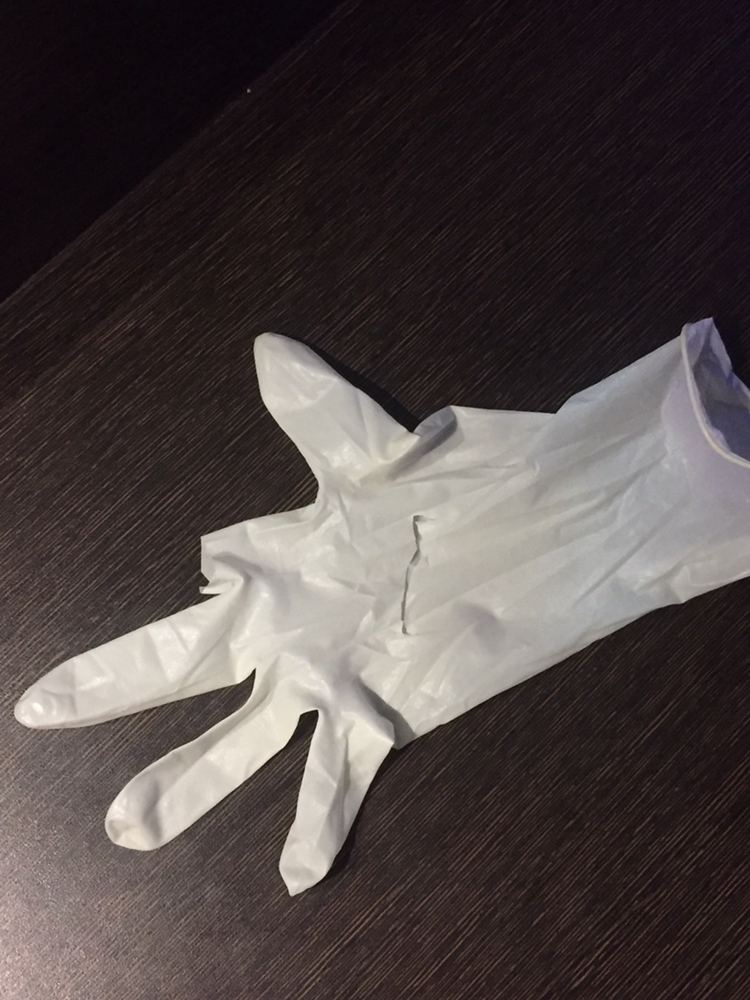defected: (1, 330, 750, 940)
